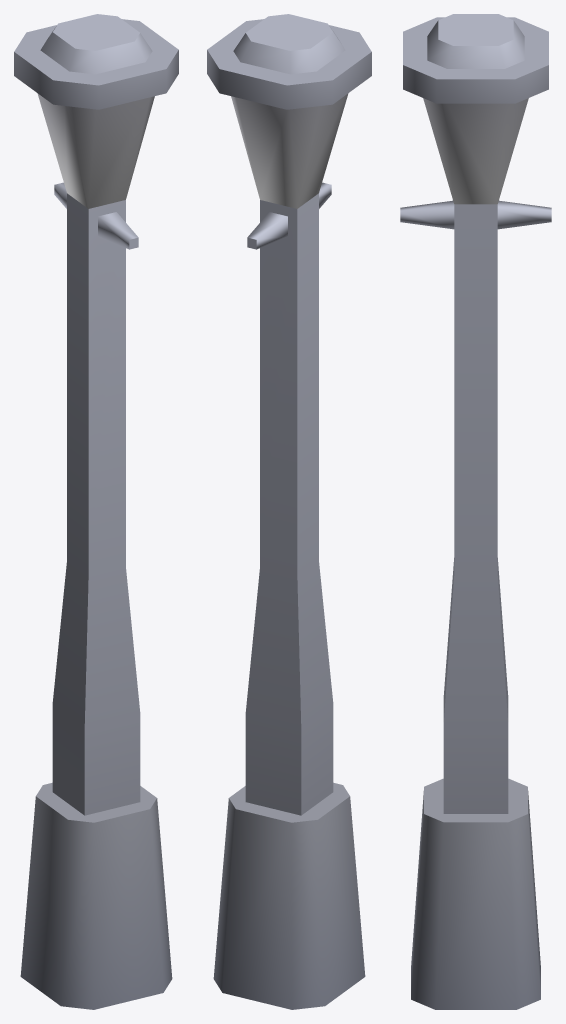
File: lantern.glb
3 views of the same model, side by side, from view 1: azimuth 30°, elevation 25°; view 2: azimuth 150°, elevation 25°; view 3: azimuth 270°, elevation 25° (orthographic).
Parts seen in each view (by area): view 1: lantern; view 2: lantern; view 3: lantern.
Part boxes in pixels (<box>): lantern: <box>14,14,178,1009</box>; lantern: <box>207,14,371,1009</box>; lantern: <box>400,14,551,1009</box>.
Bounding box in the file's own units: 0.2164 × 1.56 × 0.2243.
